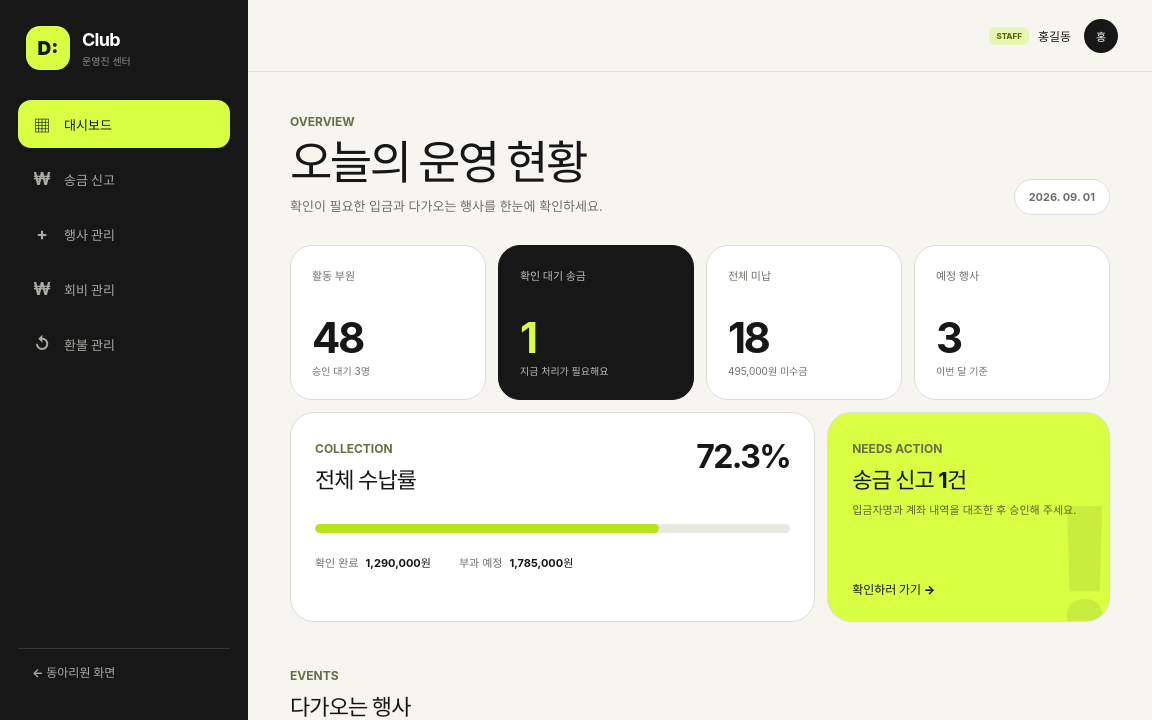
Test case: AdminPaymentReportsPage › 회비 차수 7이 없어도 대시보드에서 행사 신고로 이동한다
Click the link "확인하러 가기 →" at [894, 589], box [852,582,935,597]
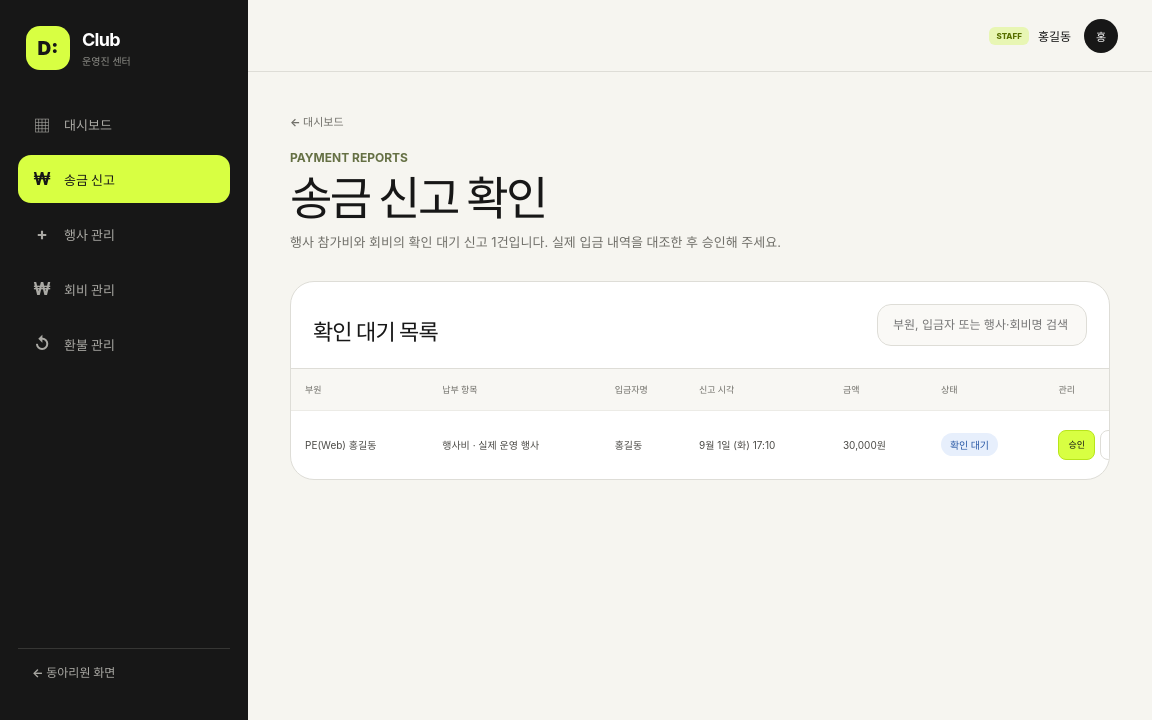
expect the heading "송금 신고 확인" is shown: met, box [290,170,546,226]
